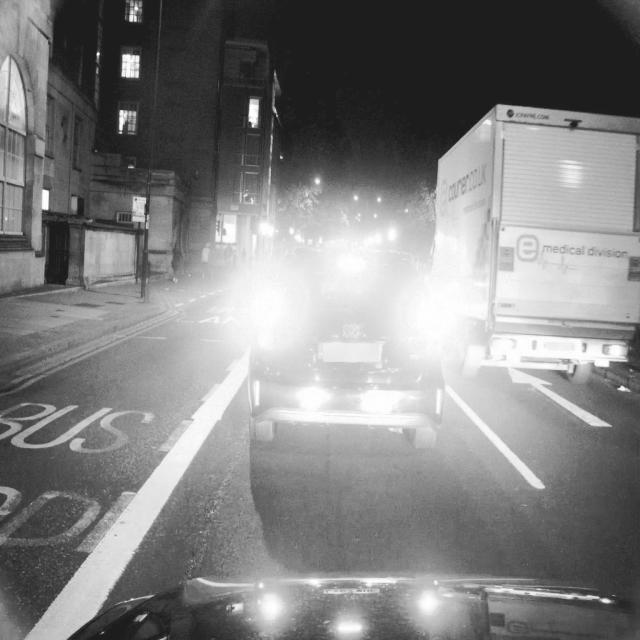Car: (242, 225, 444, 450)
Truck: (431, 103, 639, 386)
